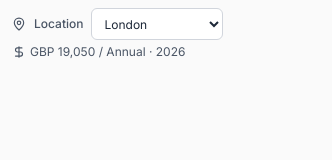
Test: search course location offerings › uses a uniquely matching search location fee, allows switching, and resets on filter change
The image size is (332, 160).
Later steps or results of the test are not shown.
Expected: the text "GBP 19,050 / Annual · 2026" is shown, [12,44,185,59]
Select "Leeds" in the dropdown labelled "Location" at coordinates (158, 24), box [92,8,224,40]
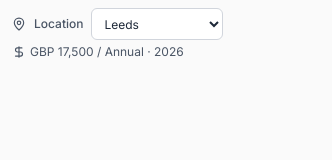
Result: the text "GBP 17,500 / Annual · 2026" is shown at [12,44,184,59]
